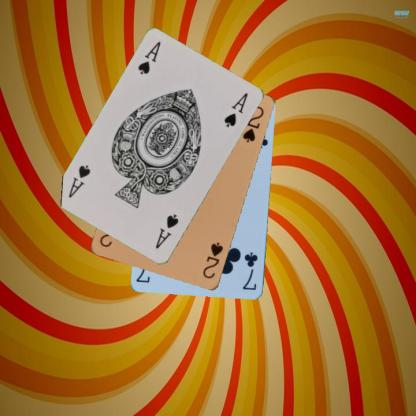2s: (200, 240, 225, 280)
7c: (240, 249, 259, 292)
As: (153, 211, 180, 251), (136, 39, 162, 76)
